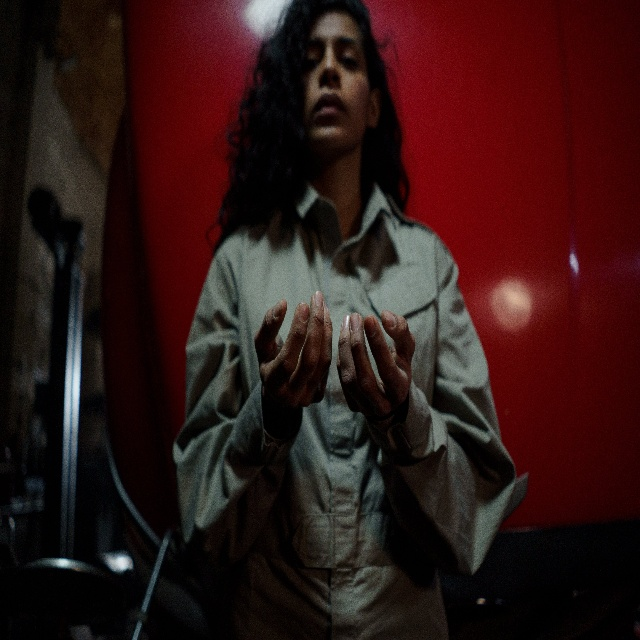Sin_guantes: (253, 287, 333, 412), (336, 306, 416, 428)
